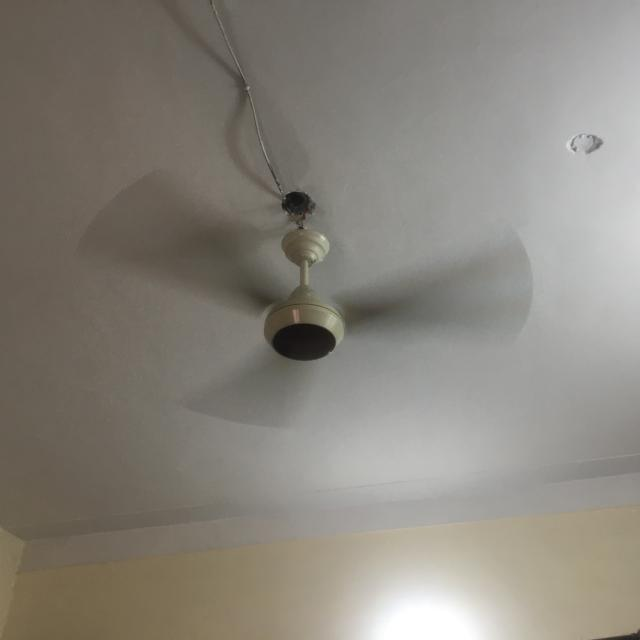on: (69, 161, 538, 440)
